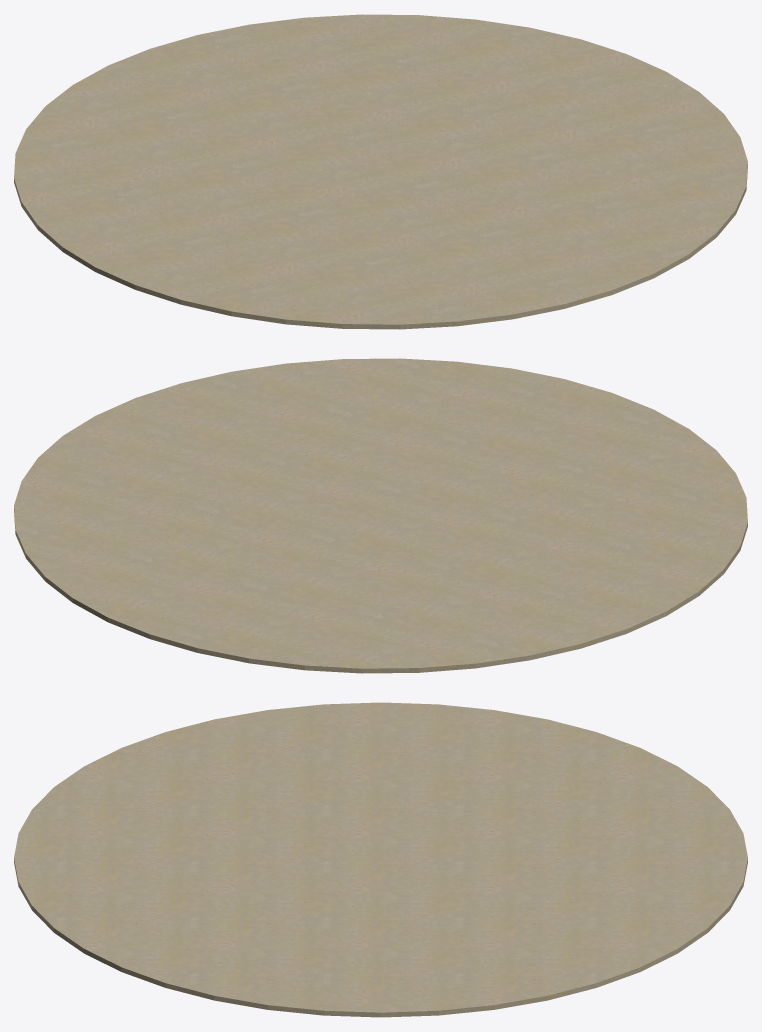
Rendered from prop_training_floor.glb.
The picture shows the model from 3 angles, top to bottom: view 1: azimuth 30°, elevation 25°; view 2: azimuth 150°, elevation 25°; view 3: azimuth 270°, elevation 25°; orthographic projection.
Parts seen in each view (by area): view 1: prop_training_floor; view 2: prop_training_floor; view 3: prop_training_floor.
Part boxes in pixels (x1,y1,x2,y2): prop_training_floor: (14, 14, 747, 329); prop_training_floor: (14, 358, 747, 673); prop_training_floor: (14, 702, 747, 1017).
Size of the model in its own units: 8.3 by 0.06 by 8.3.
Materials: 1 (1 with a texture image).
